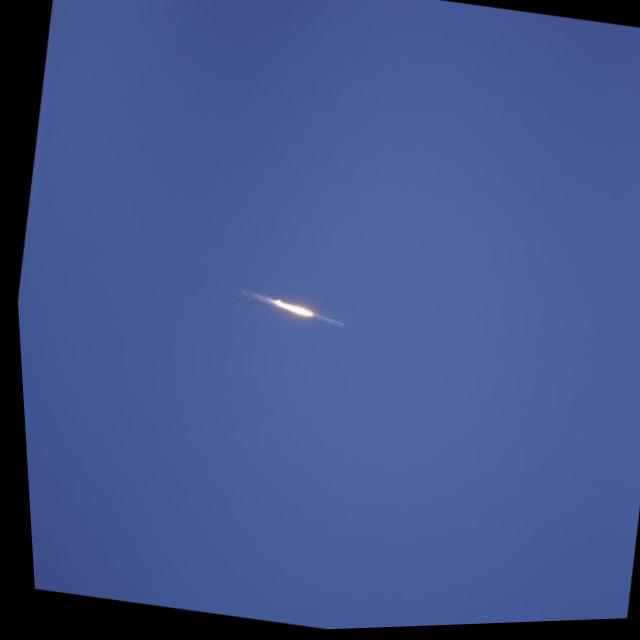missile: (302, 304, 342, 342)
